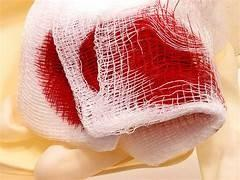cotton: (19, 0, 224, 164), (101, 40, 239, 179)
